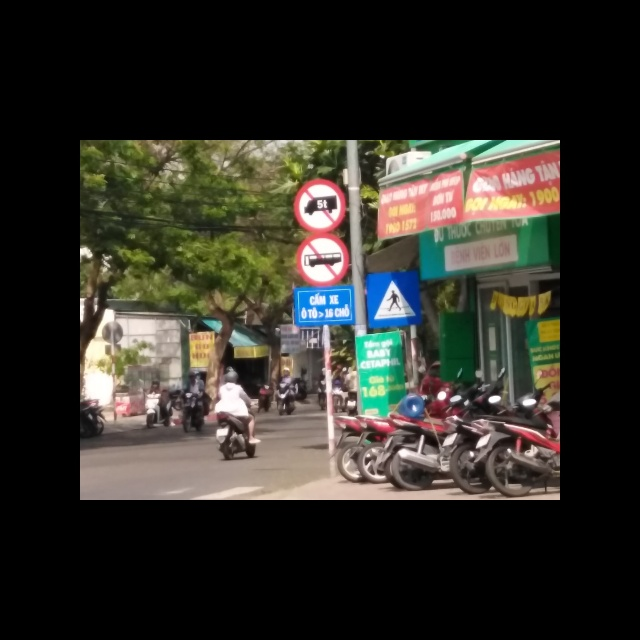Cấm xe tải: (292, 178, 346, 232)
Cấm xe xe khách: (295, 232, 349, 288)
Đường dành cho người đi bộ: (366, 272, 420, 327)
